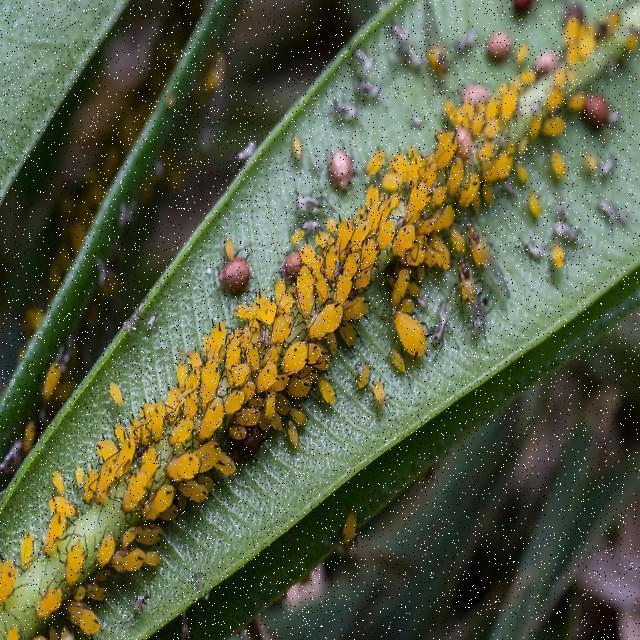Aphids: (102, 123, 533, 512), (379, 295, 440, 399)
